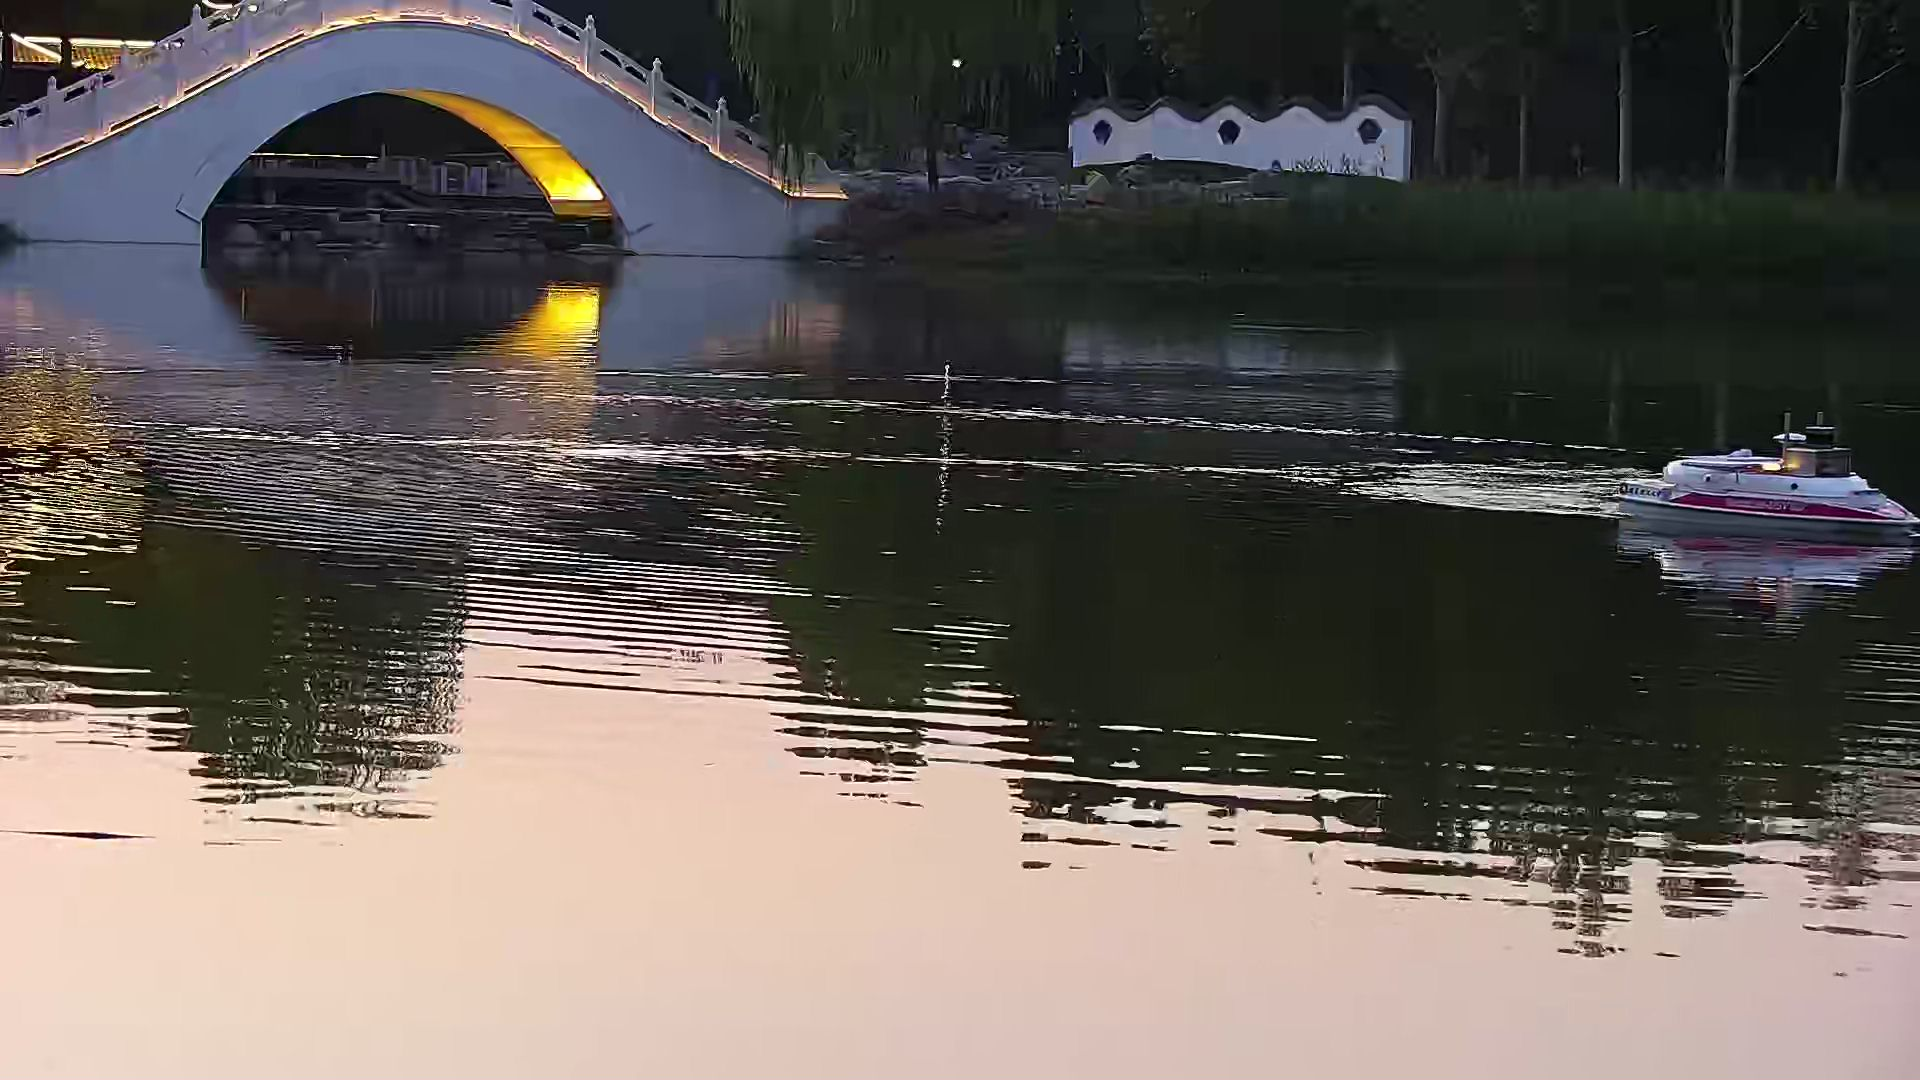boat: (1619, 406, 1920, 554)
bridge: (1, 3, 818, 255)
